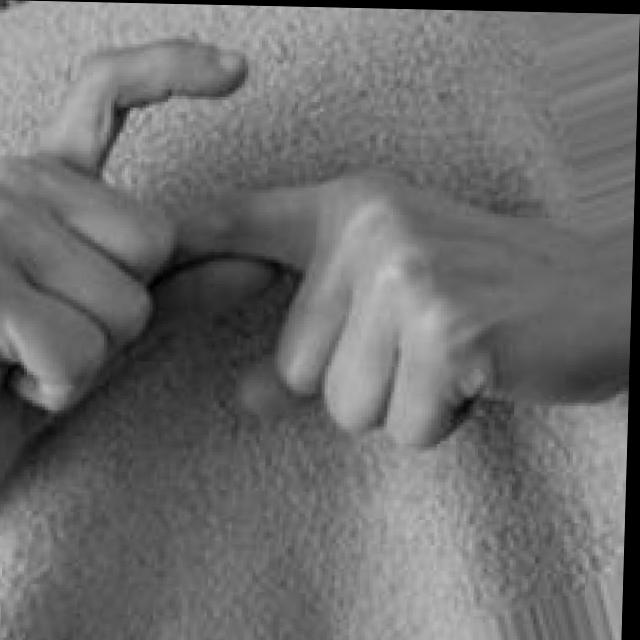S: (0, 31, 595, 511)
